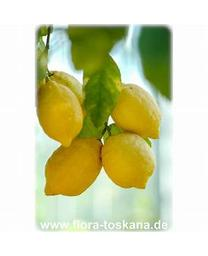lemon: (44, 137, 102, 195), (37, 81, 80, 149), (104, 132, 154, 188), (111, 85, 160, 140)
